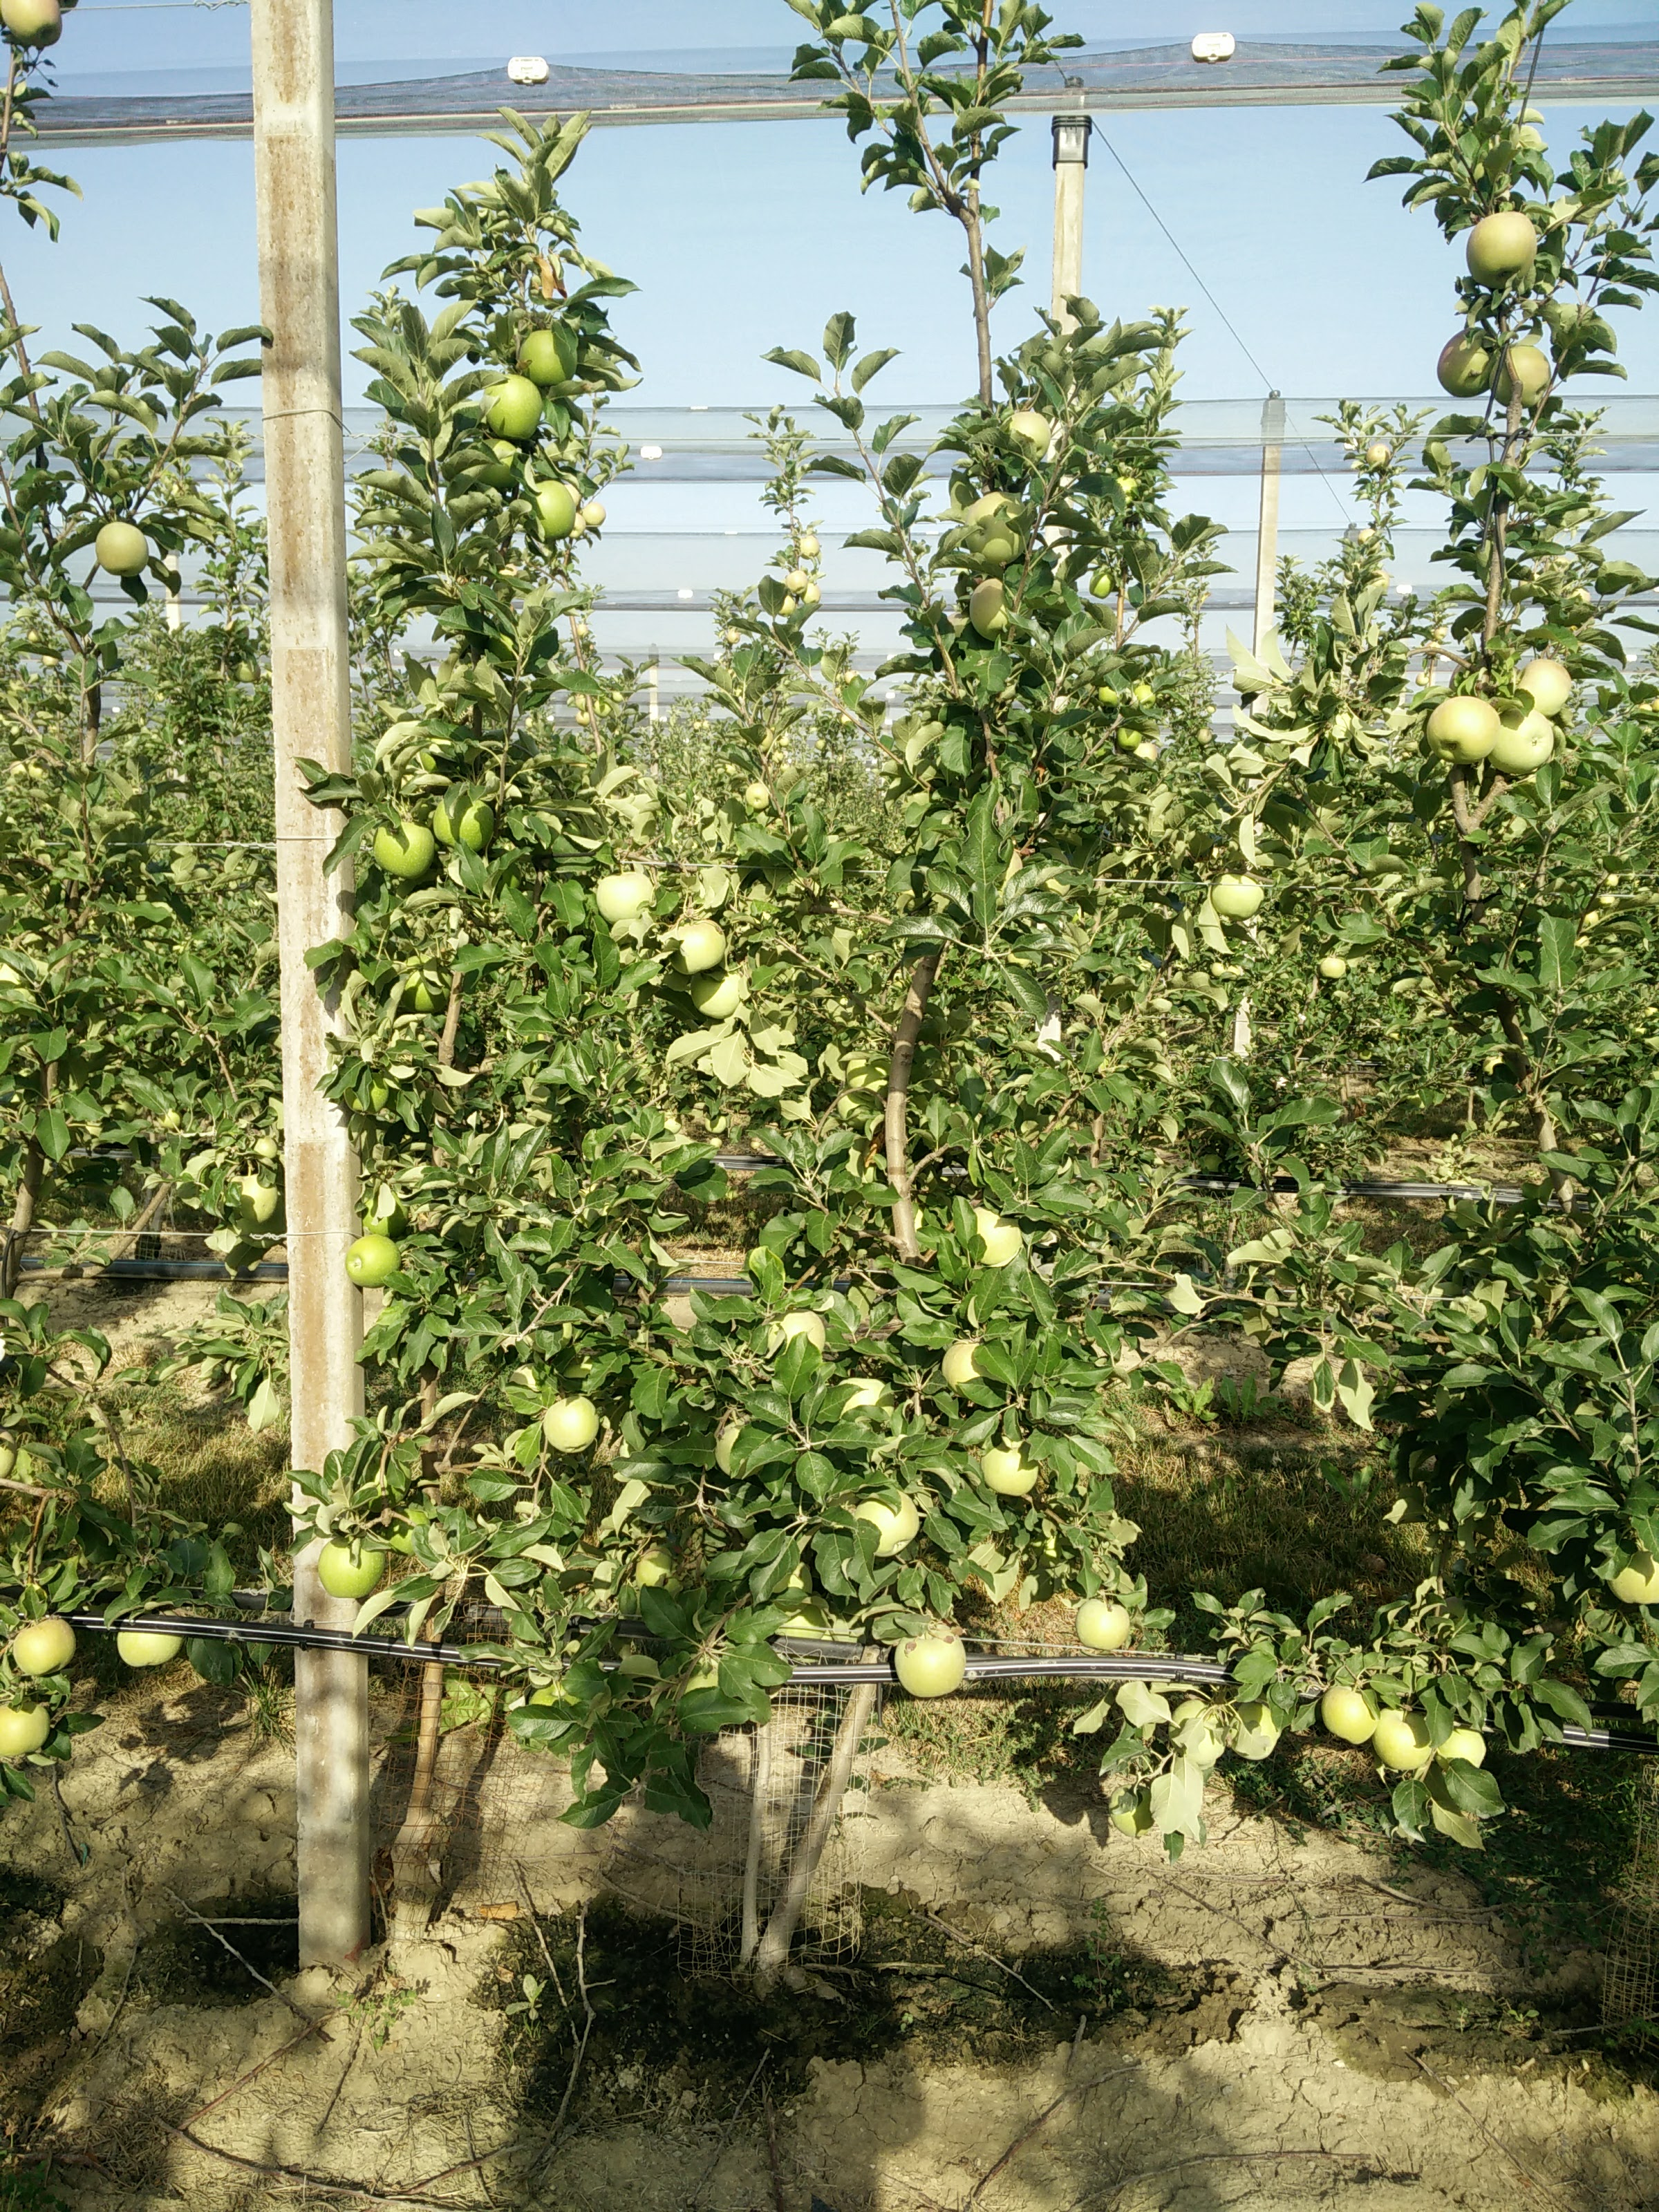apple: (1422, 689, 1500, 769), (957, 494, 1038, 568), (1464, 208, 1535, 291), (299, 1537, 392, 1602), (892, 1626, 968, 1703), (1483, 344, 1559, 415), (852, 1495, 927, 1566), (530, 1388, 606, 1456), (1363, 1708, 1432, 1781), (1315, 1678, 1380, 1753), (15, 1607, 80, 1678), (373, 816, 437, 884), (663, 913, 732, 975), (475, 376, 542, 441), (512, 480, 581, 543), (967, 583, 1035, 643), (977, 1444, 1047, 1498), (1073, 1589, 1134, 1651), (95, 516, 153, 581), (341, 1235, 411, 1289), (1206, 863, 1268, 919), (994, 409, 1055, 464)
